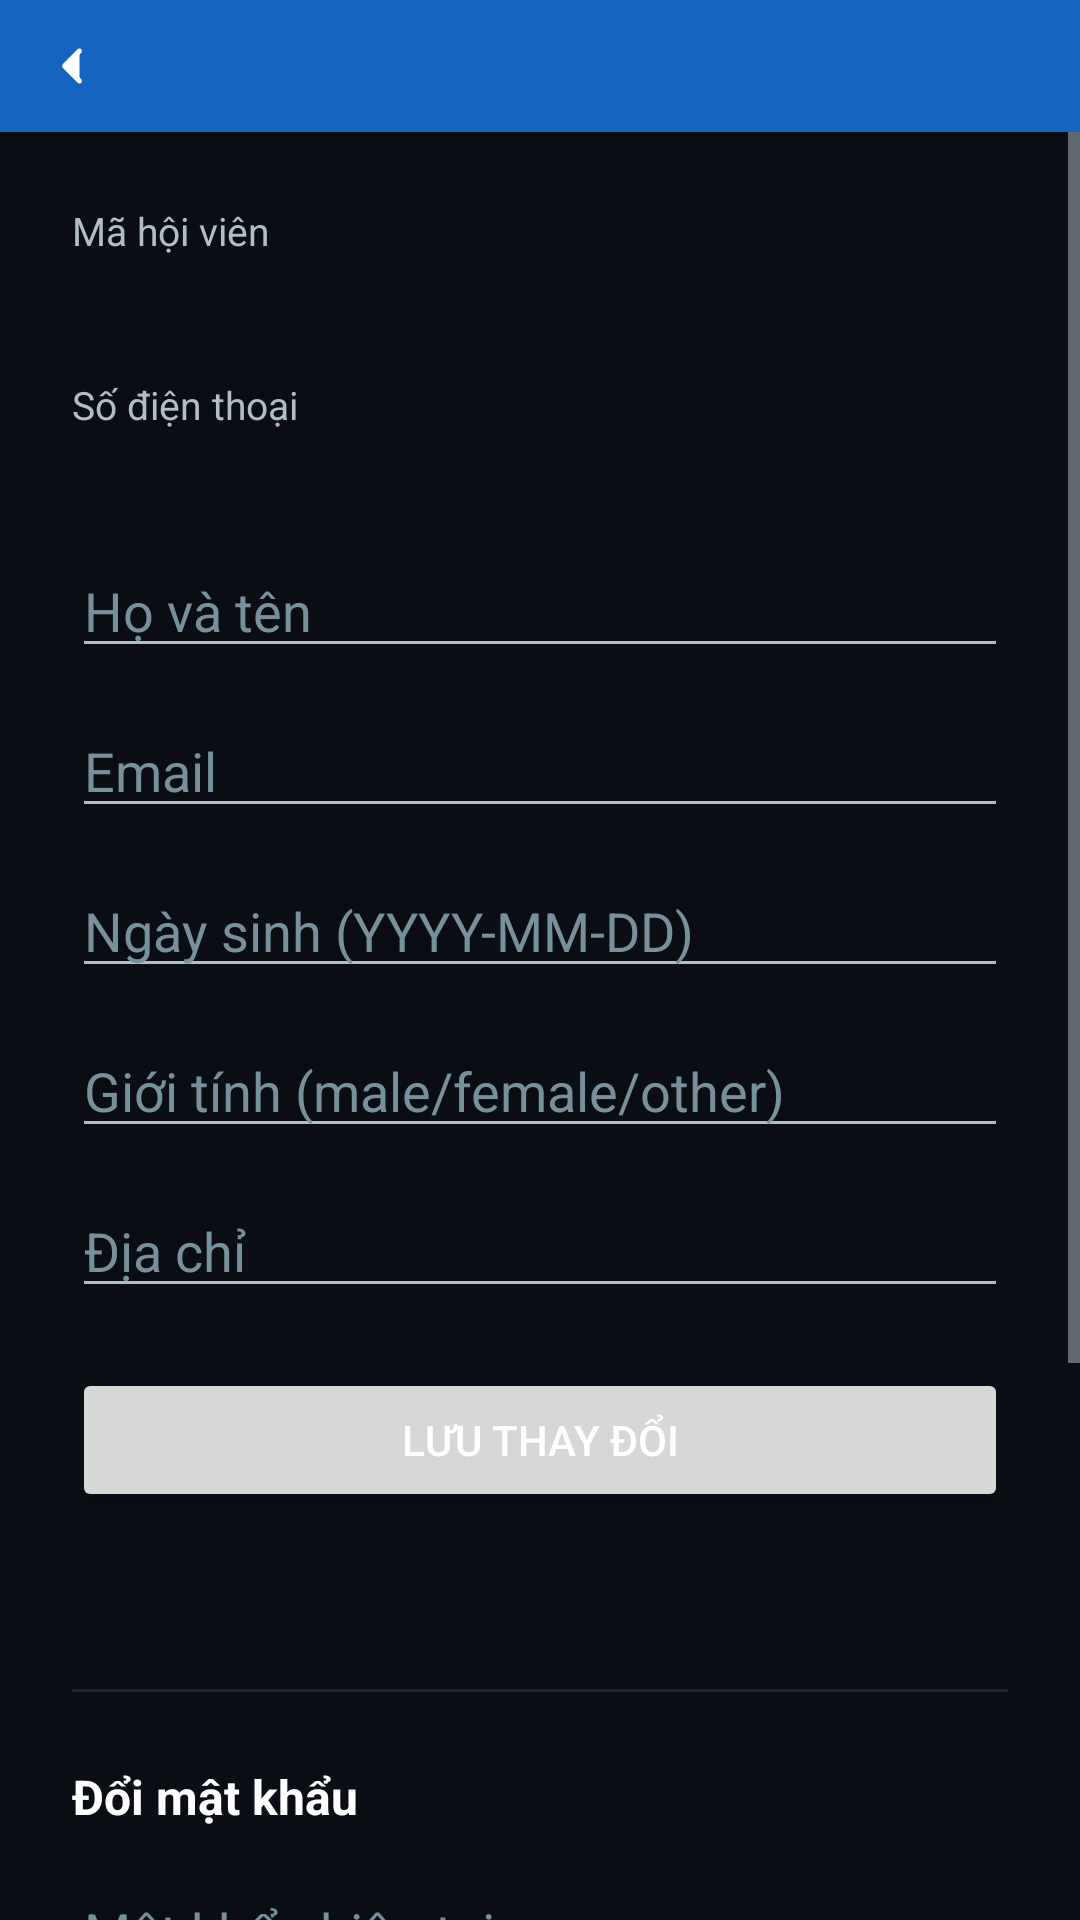

Point at icon controls on the screen. Image size 1080px×1920px, points as [x,y].
Quay lại: [72,66]
